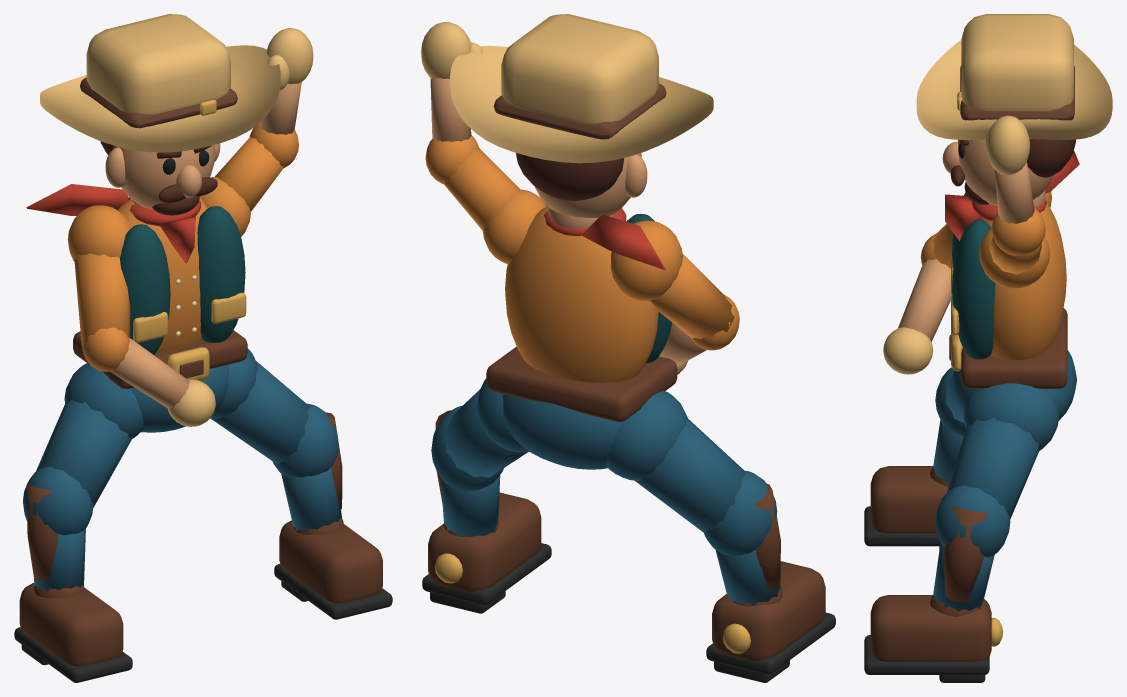
File: cowboy.glb
3 views of the same model, side by side, from view 1: azimuth 30°, elevation 25°; view 2: azimuth 150°, elevation 25°; view 3: azimuth 270°, elevation 25° (orthographic). The views are drawn at different scales.
Visible parts, largest first — view 1: Hat_Crown, Curved_Hat_Brim, Cowboy_Boot, Cowboy_Boot.001, Denim_Thigh, Denim_Thigh.001, Vest_Panel.001, Vest_Panel, Holding_Sleeve, Shirt_Torso, Knee, Hip (+28 smaller); view 2: Shirt_Torso, Hat_Crown, Curved_Hat_Brim, Wide_Belt, Denim_Thigh, Cowboy_Boot, Cowboy_Boot.001, Denim_Seat, Hip, Holding_Sleeve, Holding_Shoulder, Knee (+25 smaller); view 3: Hat_Crown, Curved_Hat_Brim, Cowboy_Boot.001, Shirt_Torso, Denim_Thigh.001, Cowboy_Boot, Vest_Panel.001, Hip.001, Wide_Belt, Knee.001, Holding_Forearm, Leather_Chap.001 (+21 smaller).
Boxes of the visible parts, left/top/right/bottom form: Hat_Crown: left=86, top=14, right=230, bottom=114; Curved_Hat_Brim: left=40, top=45, right=280, bottom=152; Cowboy_Boot: left=19, top=583, right=123, bottom=666; Cowboy_Boot.001: left=279, top=520, right=382, bottom=602; Denim_Thigh: left=36, top=400, right=131, bottom=507; Denim_Thigh.001: left=211, top=360, right=309, bottom=464; Vest_Panel.001: left=197, top=206, right=245, bottom=342; Vest_Panel: left=120, top=224, right=170, bottom=354; Holding_Sleeve: left=74, top=253, right=130, bottom=346; Shirt_Torso: left=117, top=197, right=207, bottom=352; Knee: left=23, top=466, right=93, bottom=535; Hip: left=64, top=363, right=143, bottom=438; Shirt_Torso: left=505, top=206, right=658, bottom=382; Hat_Crown: left=501, top=14, right=658, bottom=124; Curved_Hat_Brim: left=450, top=45, right=713, bottom=163; Wide_Belt: left=486, top=346, right=677, bottom=421; Denim_Thigh: left=635, top=419, right=745, bottom=532; Cowboy_Boot: left=712, top=561, right=825, bottom=661; Cowboy_Boot.001: left=428, top=492, right=541, bottom=592; Denim_Seat: left=502, top=394, right=623, bottom=469; Hip: left=606, top=391, right=688, bottom=480; Holding_Sleeve: left=649, top=254, right=734, bottom=339; Holding_Shoulder: left=610, top=220, right=682, bottom=300; Knee: left=704, top=470, right=777, bottom=555; Hat_Crown: left=961, top=14, right=1073, bottom=111; Curved_Hat_Brim: left=916, top=40, right=1112, bottom=139; Cowboy_Boot.001: left=870, top=595, right=991, bottom=661; Shirt_Torso: left=977, top=203, right=1066, bottom=360; Denim_Thigh.001: left=947, top=417, right=1039, bottom=519; Cowboy_Boot: left=870, top=466, right=948, bottom=533; Vest_Panel.001: left=952, top=219, right=995, bottom=359; Hip.001: left=963, top=383, right=1059, bottom=450; Wide_Belt: left=961, top=308, right=1067, bottom=388; Knee.001: left=935, top=485, right=1010, bottom=557; Holding_Forearm: left=898, top=259, right=952, bottom=341; Leather_Chap.001: left=944, top=505, right=988, bottom=602.
Size of the model in its own units: 1.8 by 3.05 by 1.19.
